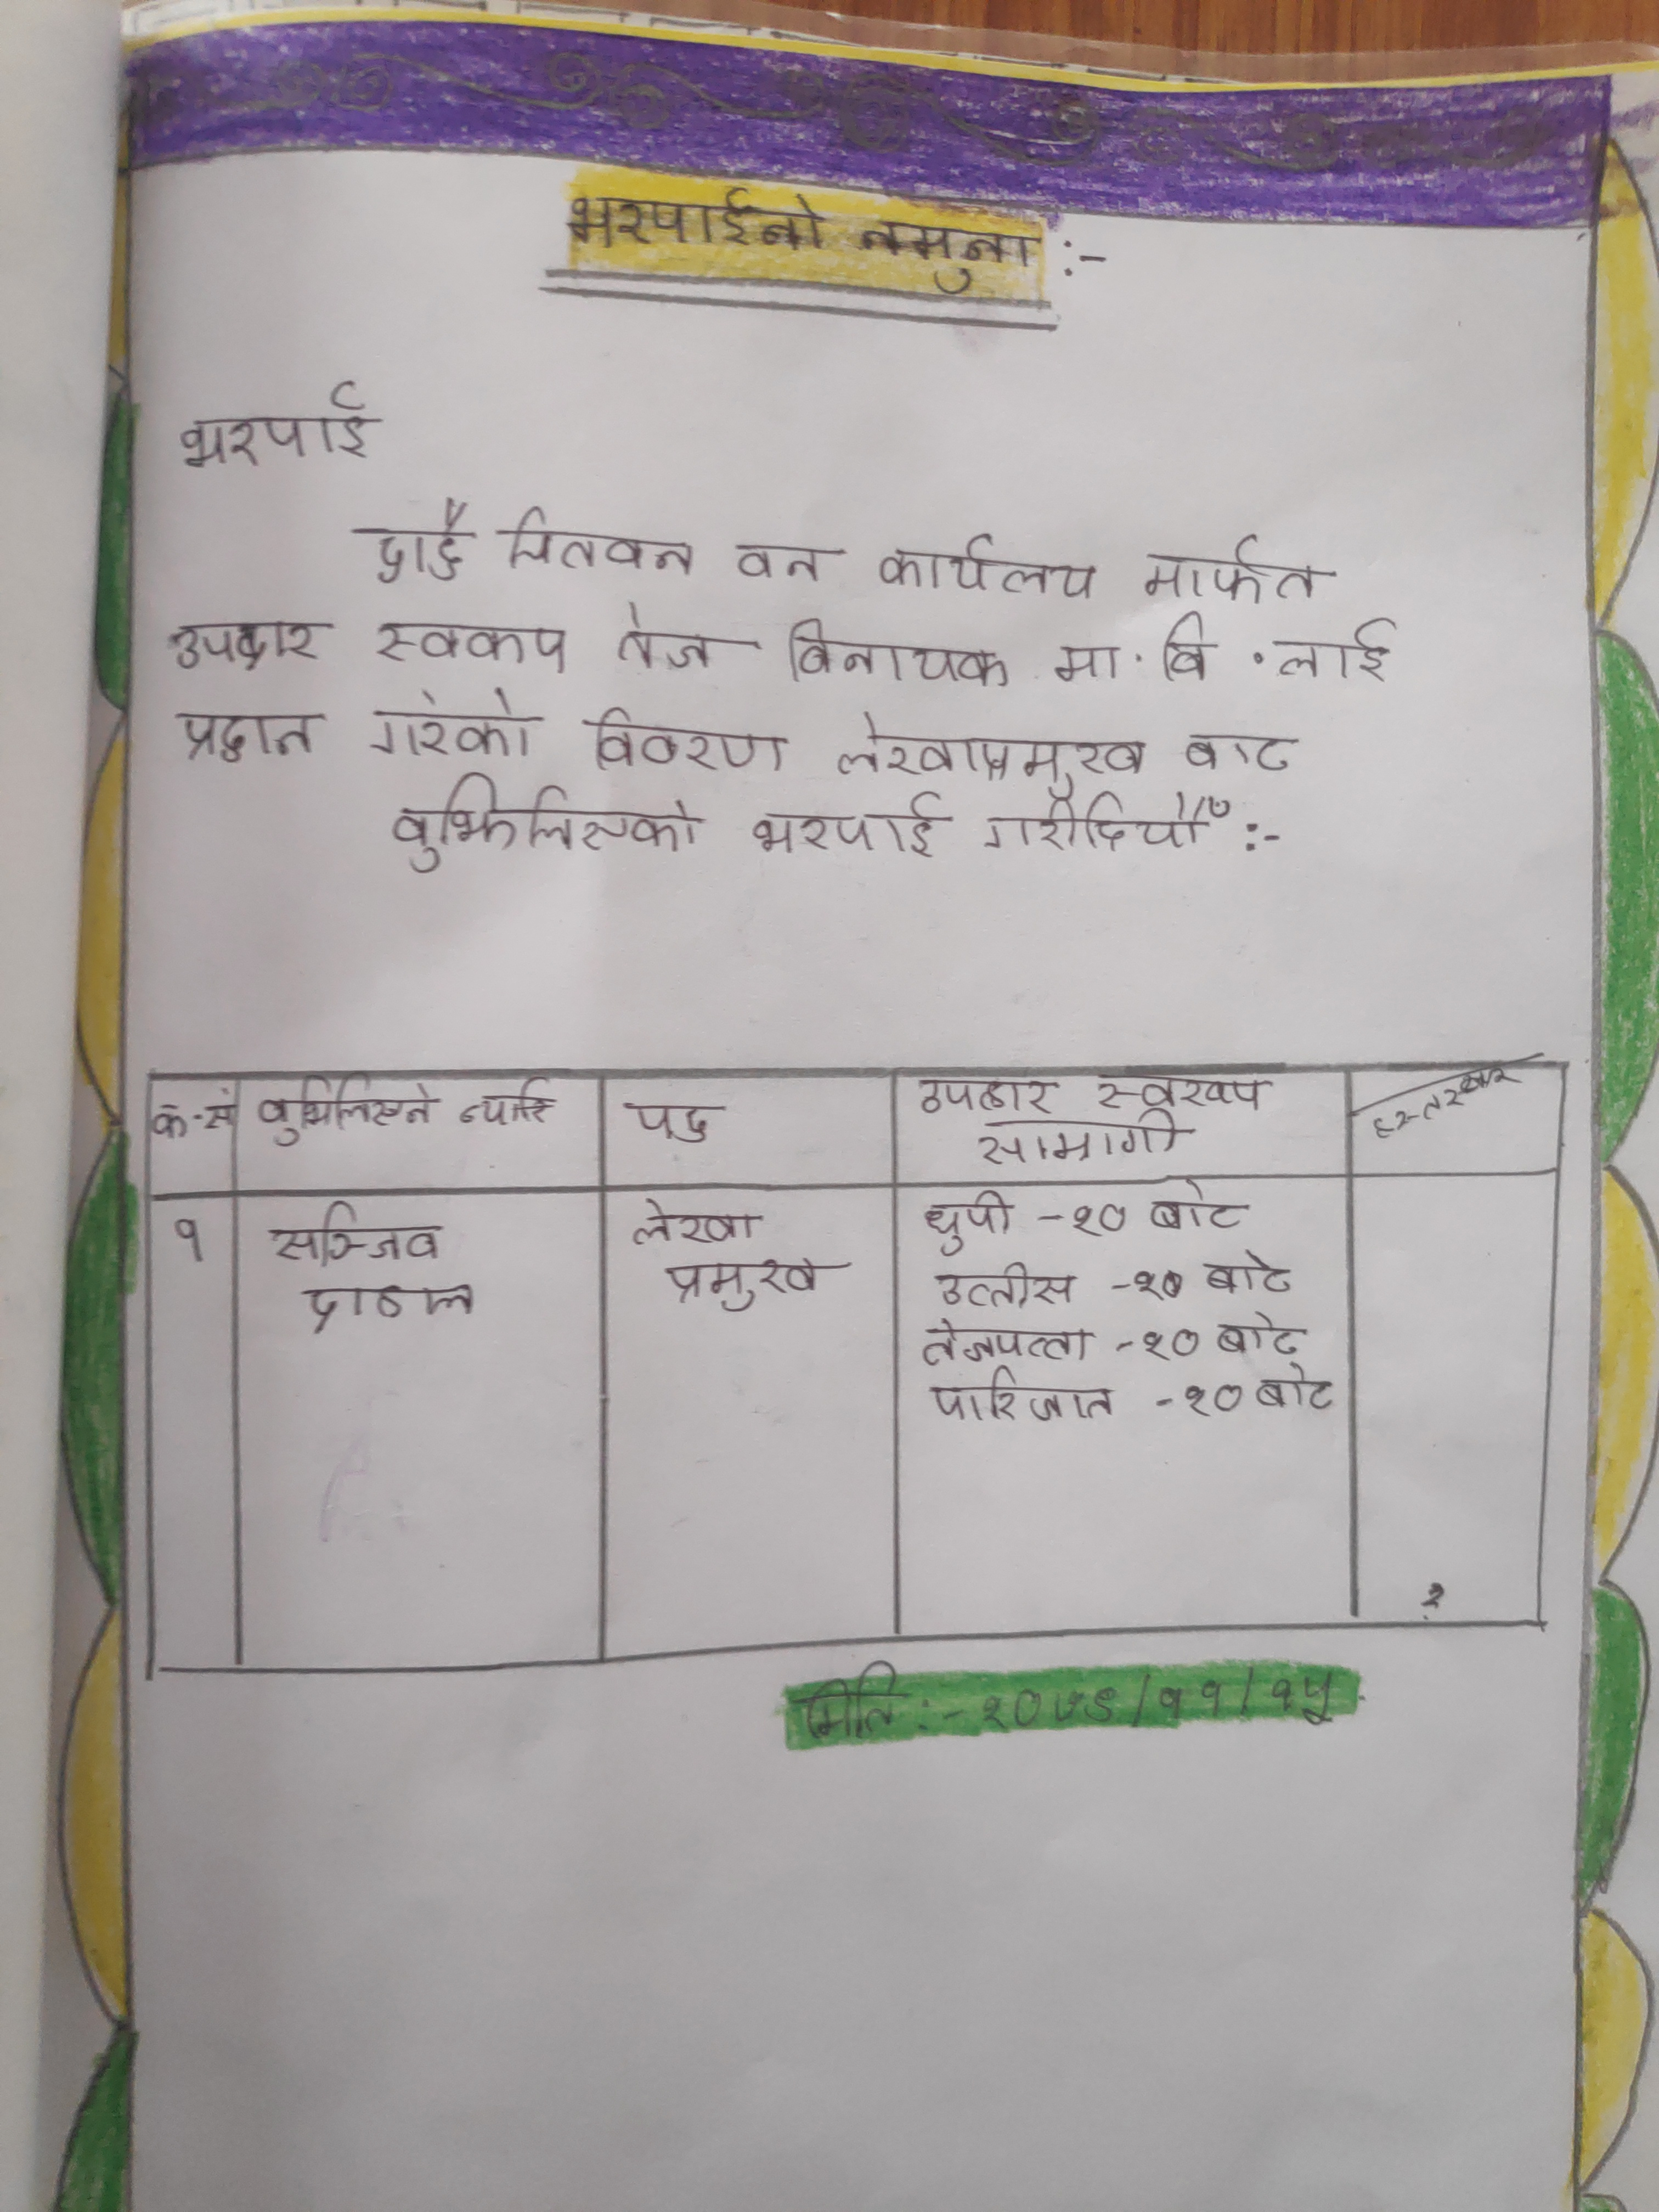text: (394, 768, 702, 874), (819, 711, 1148, 794), (979, 1665, 1351, 1737), (563, 178, 833, 265), (171, 373, 376, 467), (774, 610, 1012, 688), (500, 502, 701, 585), (976, 791, 1236, 855), (366, 685, 551, 765), (1138, 535, 1335, 610), (856, 214, 1042, 291), (580, 707, 795, 773), (875, 536, 1094, 601), (751, 798, 945, 867), (298, 1271, 479, 1343), (246, 1078, 444, 1143), (371, 615, 580, 676), (917, 1371, 1121, 1432), (1354, 1071, 1528, 1141), (969, 1109, 1199, 1162), (267, 1202, 441, 1268), (606, 592, 742, 676), (662, 1247, 824, 1313), (169, 698, 335, 763), (162, 611, 333, 672), (917, 1312, 1094, 1369), (796, 1669, 920, 1749), (361, 502, 483, 580), (1276, 622, 1419, 686), (629, 1191, 765, 1252), (920, 1177, 1014, 1261), (897, 1073, 1060, 1120), (624, 1090, 730, 1153), (932, 1270, 1082, 1313), (1098, 1076, 1270, 1113), (455, 1075, 559, 1134), (1176, 730, 1298, 780), (723, 538, 849, 587), (1150, 613, 1225, 690), (1202, 1247, 1305, 1301), (1046, 634, 1136, 695), (1213, 1310, 1309, 1357), (1253, 1371, 1349, 1416), (1150, 1190, 1251, 1231), (143, 1090, 235, 1136)
